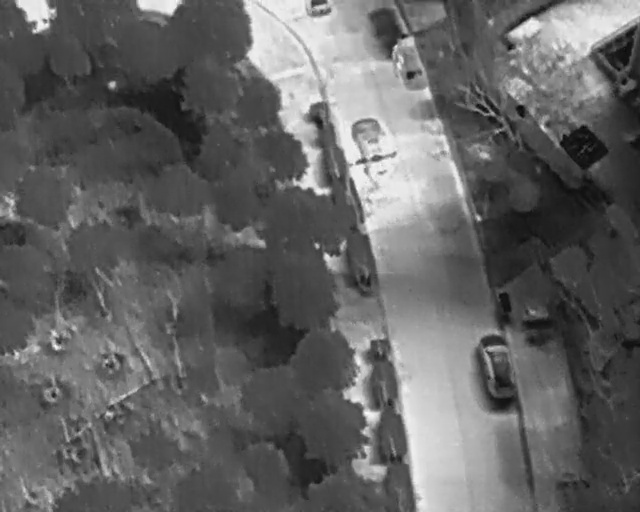Car: (472, 332, 522, 410), (350, 113, 397, 183), (390, 38, 433, 95)
